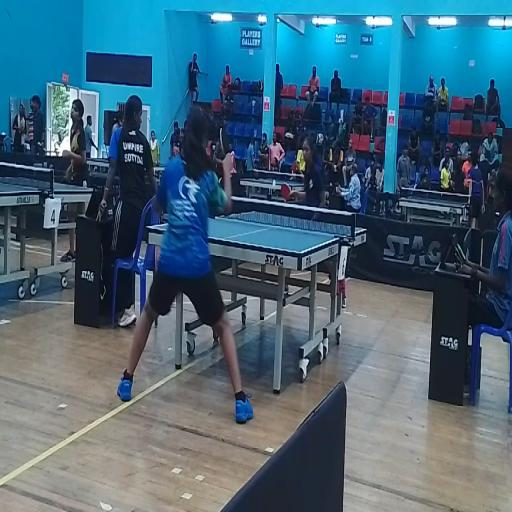ball: (270, 181, 278, 195)
